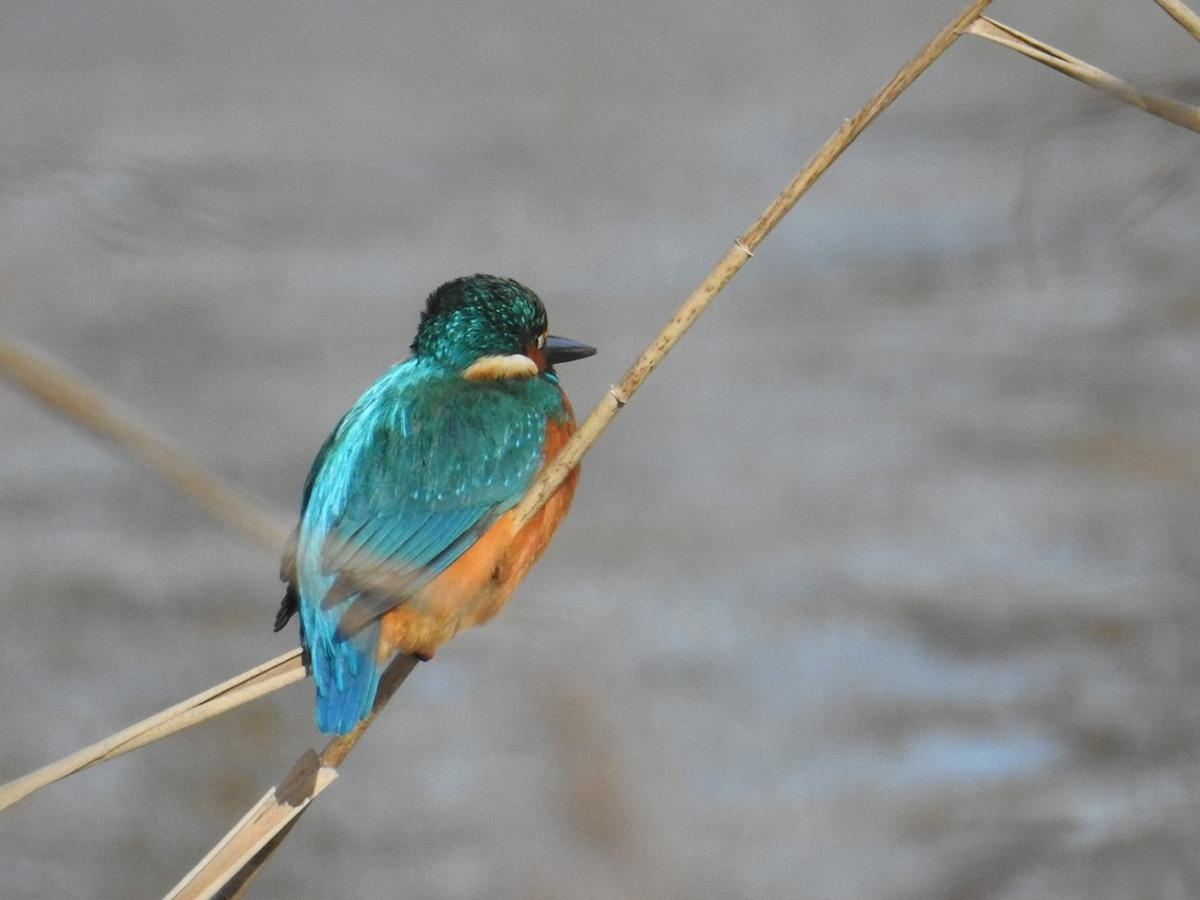kingfisher: (256, 259, 648, 691)
